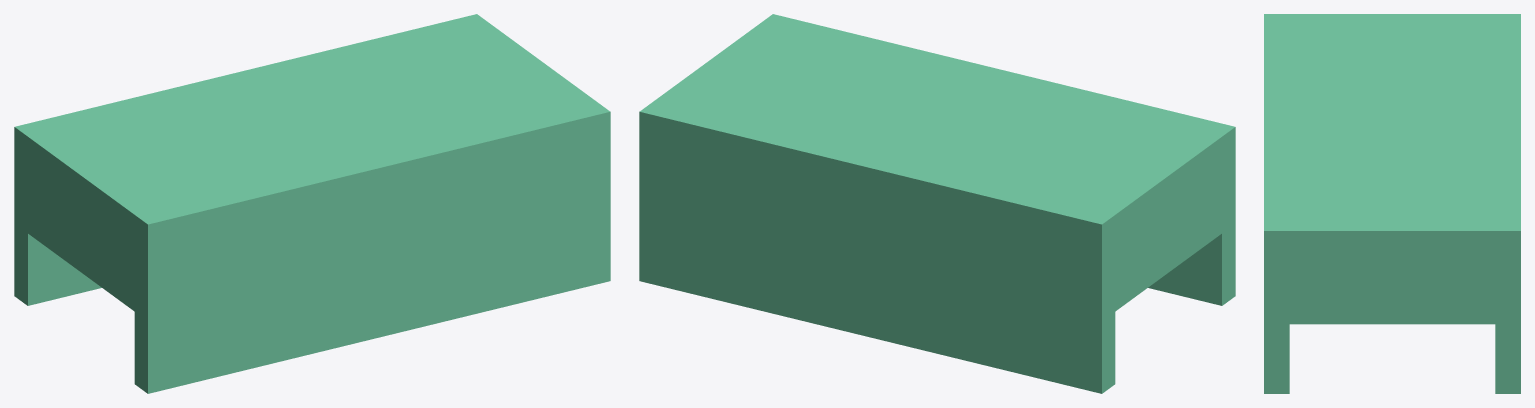
Rendered from tunnel_x_30cm_hole_400cm_len.dae.
3 renders of one model, left to right at view 1: azimuth 30°, elevation 25°; view 2: azimuth 150°, elevation 25°; view 3: azimuth 270°, elevation 25°, orthographic. The views are drawn at different scales.
Parts seen in each view (by area): view 1: Cube; view 2: Cube; view 3: Cube.
Boxes of the visible parts, left/top/right/bottom form: Cube: left=14, top=14, right=610, bottom=393; Cube: left=639, top=14, right=1235, bottom=393; Cube: left=1264, top=14, right=1520, bottom=393.
Size of the model in its own units: 4 by 2 by 1.4.
